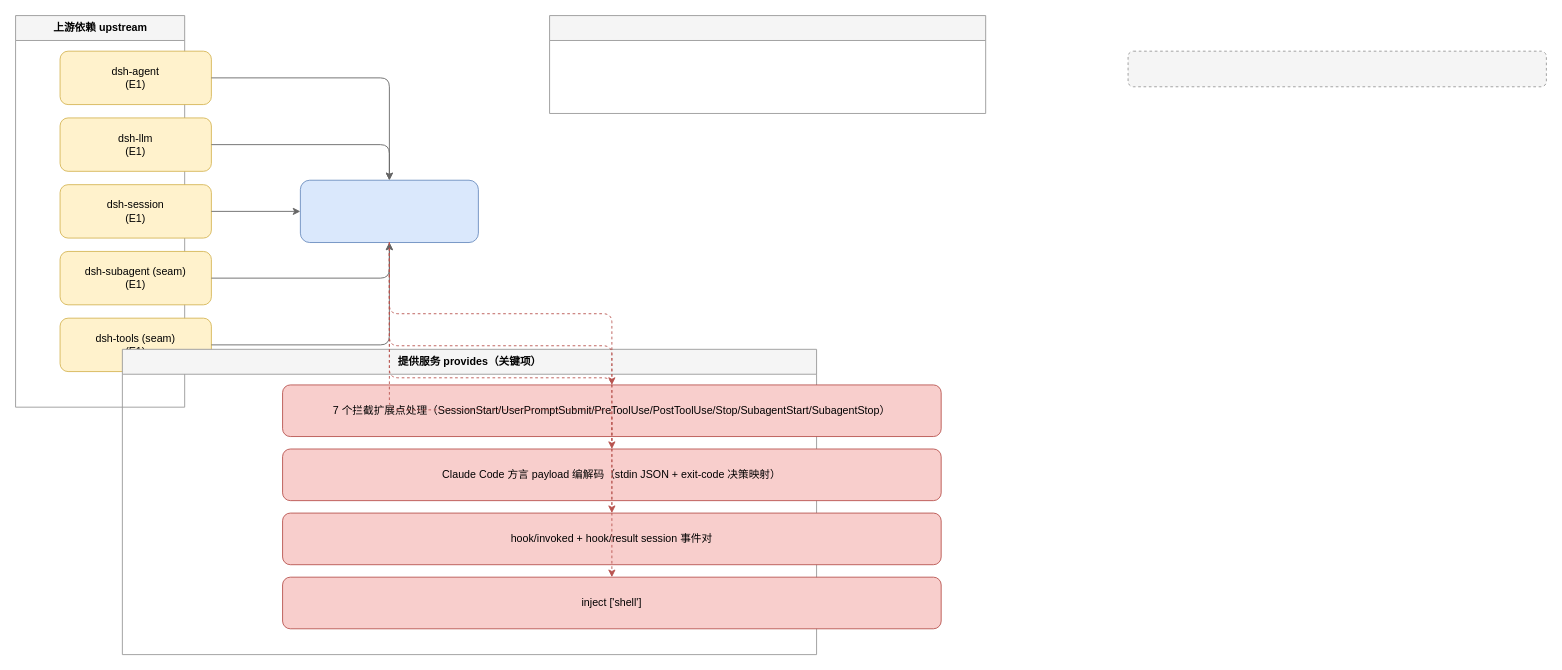
This 1562x670 diagram has some shape labels left out. Each missing label, with the centre of its shape:
"@deepseek-ai/dsh-hooks-claude-code" belongs at pixel 388 211.
"下游被依赖 dependents" belongs at pixel 767 64.
"无下游" belongs at pixel 1336 68.
